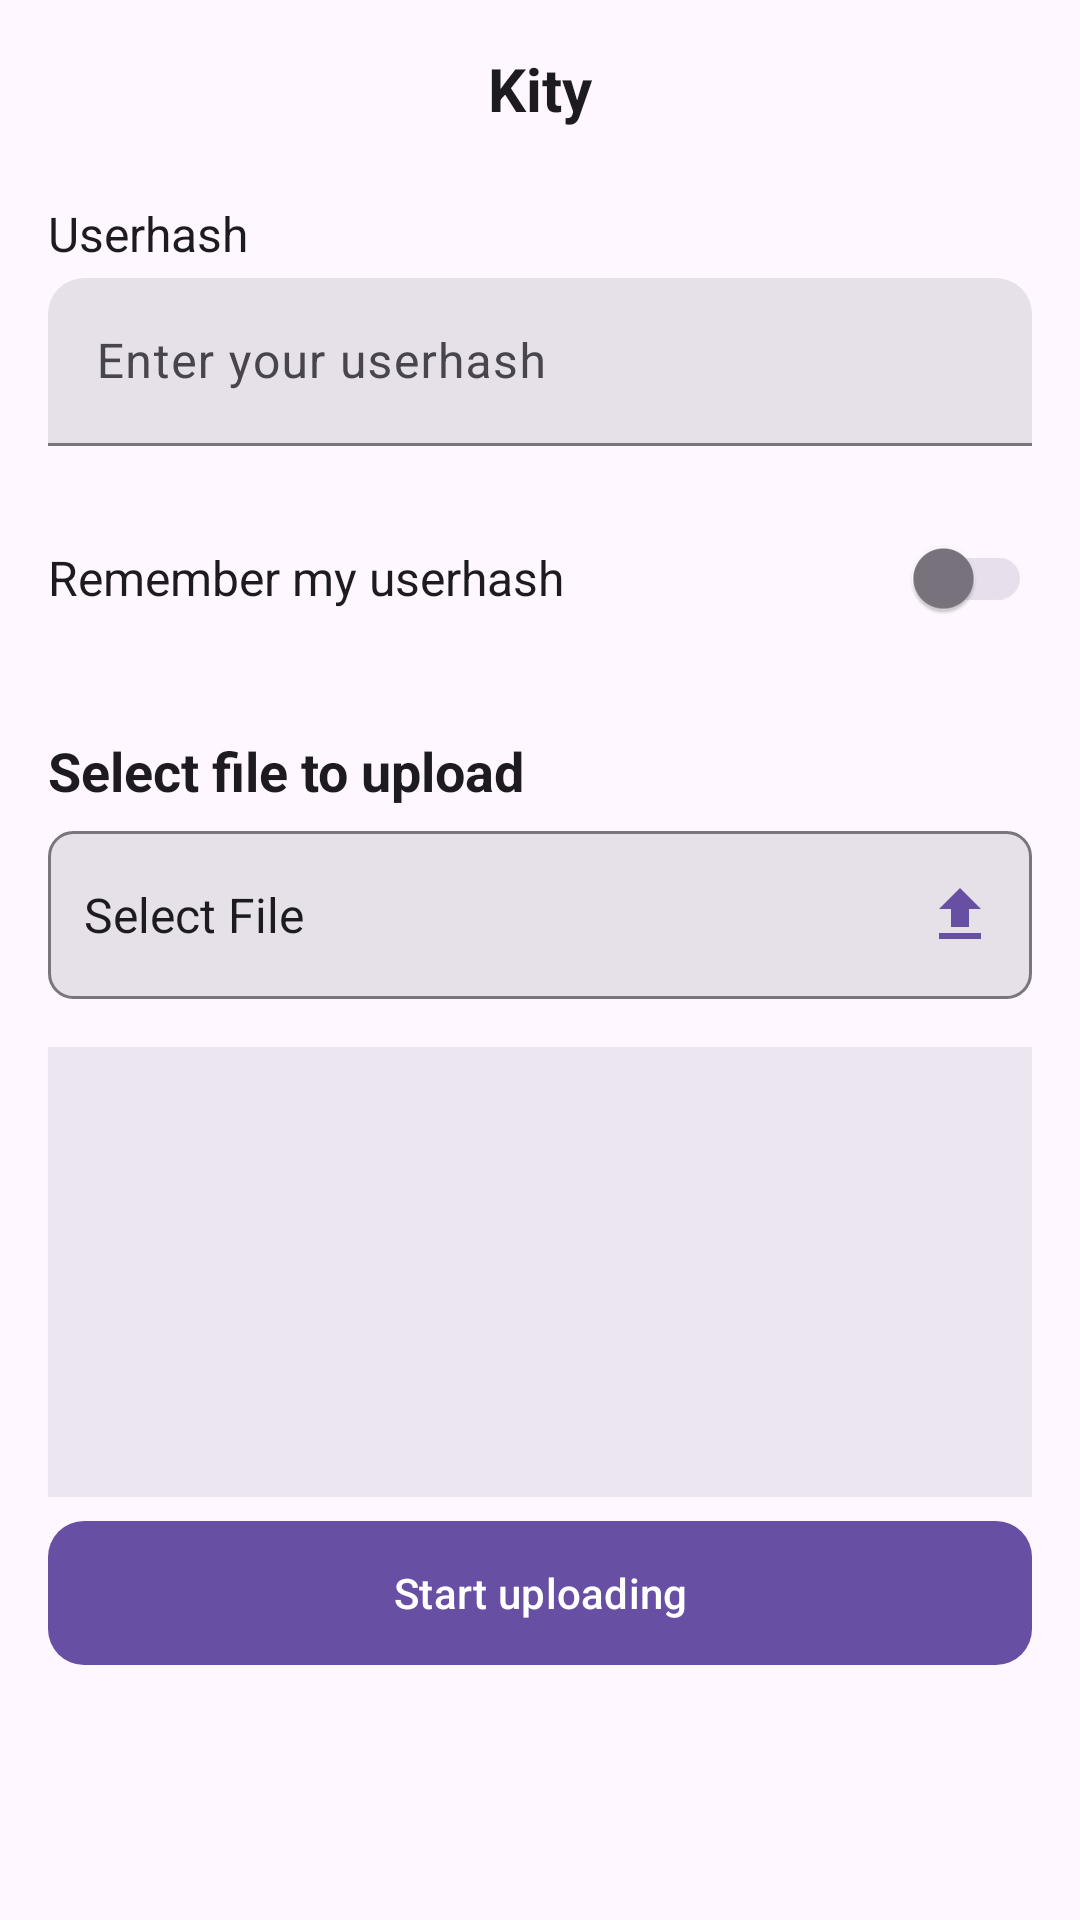

Where icons sit on this 1080px x 1920px app screen, as region(x1, y1, x2, y2):
Upload file icon: region(939, 888, 981, 939)
